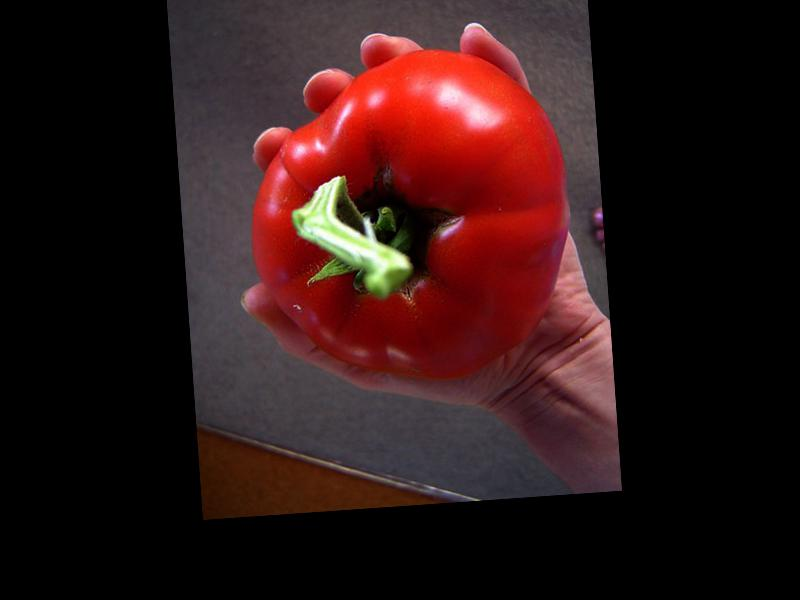Tomato: (238, 41, 579, 390)
